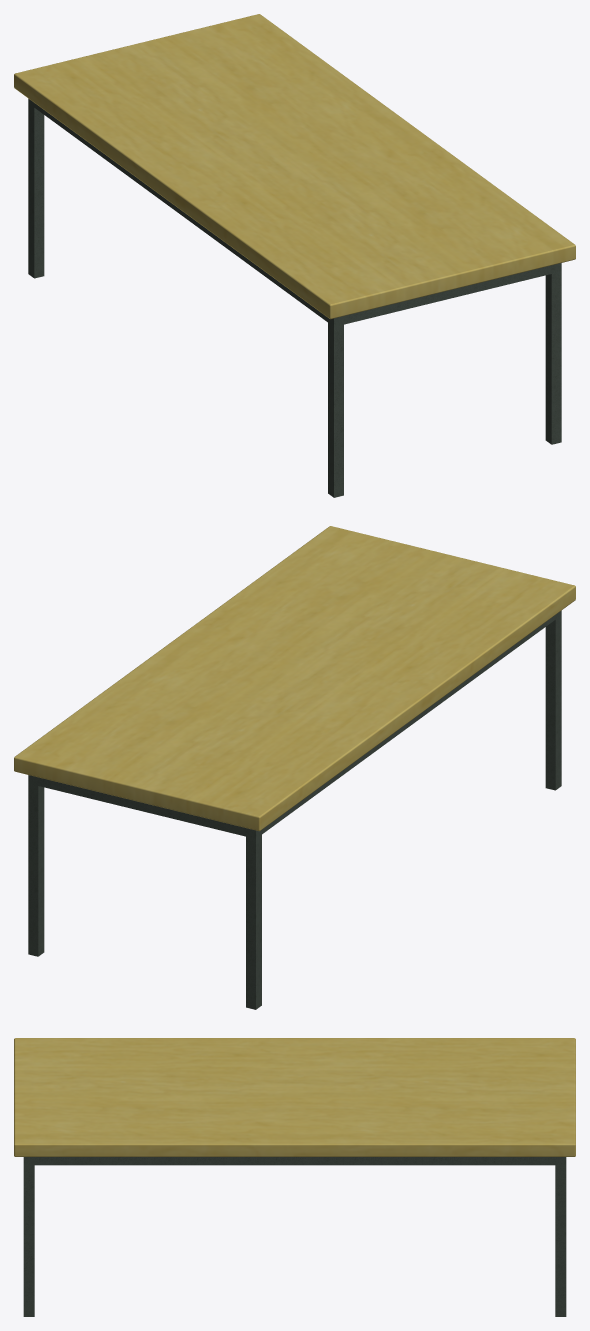
Rendered from LGSeochoB1TableWood.fbx.
3 renders of one model, top to bottom at view 1: azimuth 30°, elevation 25°; view 2: azimuth 150°, elevation 25°; view 3: azimuth 270°, elevation 25°, orthographic. The views are drawn at different scales.
Parts seen in each view (by area): view 1: LGSeochoB1Wood, LGSeochoB1Metal; view 2: LGSeochoB1Wood, LGSeochoB1Metal; view 3: LGSeochoB1Wood, LGSeochoB1Metal.
Part boxes in pixels (x1,y1,x2,y2): LGSeochoB1Wood: (14,14,575,318); LGSeochoB1Metal: (28,98,561,497); LGSeochoB1Wood: (14,526,575,830); LGSeochoB1Metal: (28,610,561,1009); LGSeochoB1Wood: (14,1038,575,1156); LGSeochoB1Metal: (23,1157,566,1316).
Size of the model in its own units: 85.87 by 66.27 by 191.
Materials: 2 (2 with a texture image).
